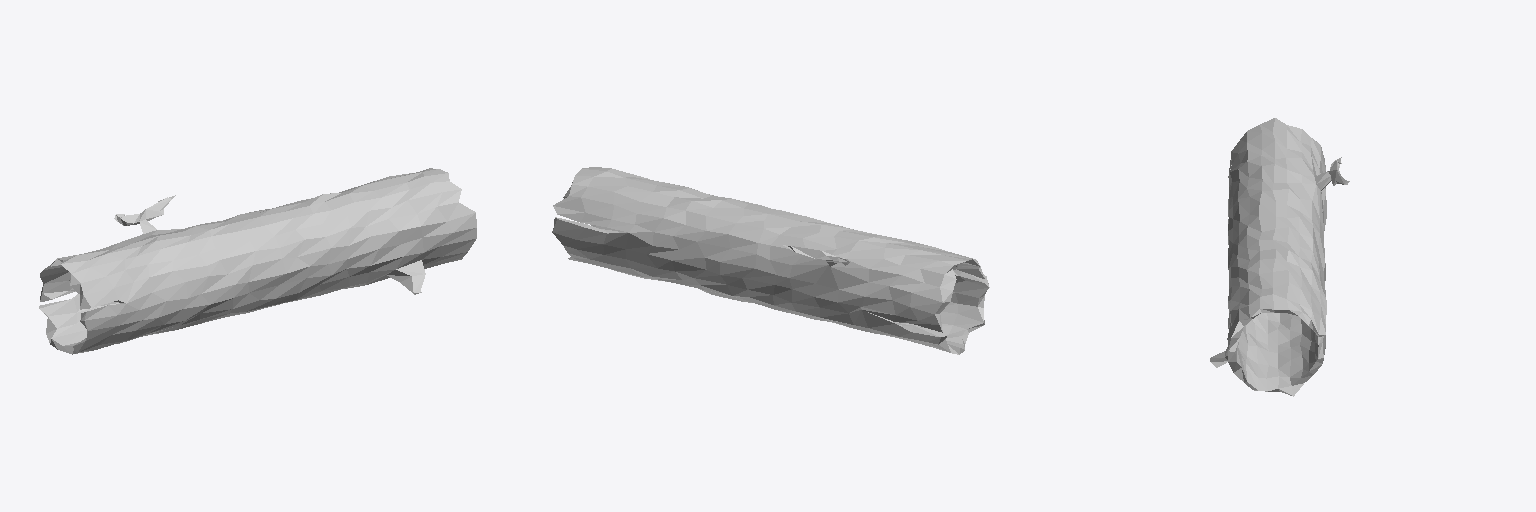
File: log-2.obj
The picture shows the model from 3 angles: view 1: azimuth 30°, elevation 25°; view 2: azimuth 150°, elevation 25°; view 3: azimuth 270°, elevation 25°; orthographic projection.
Parts seen in each view (by area): view 1: Tube002; view 2: Tube002; view 3: Tube002.
Part boxes in pixels (bbox=[...]): Tube002: bbox=[39, 168, 476, 354]; Tube002: bbox=[552, 167, 989, 354]; Tube002: bbox=[1210, 118, 1349, 396].
Bounding box in the file's own units: 88.78 × 20.36 × 26.9.